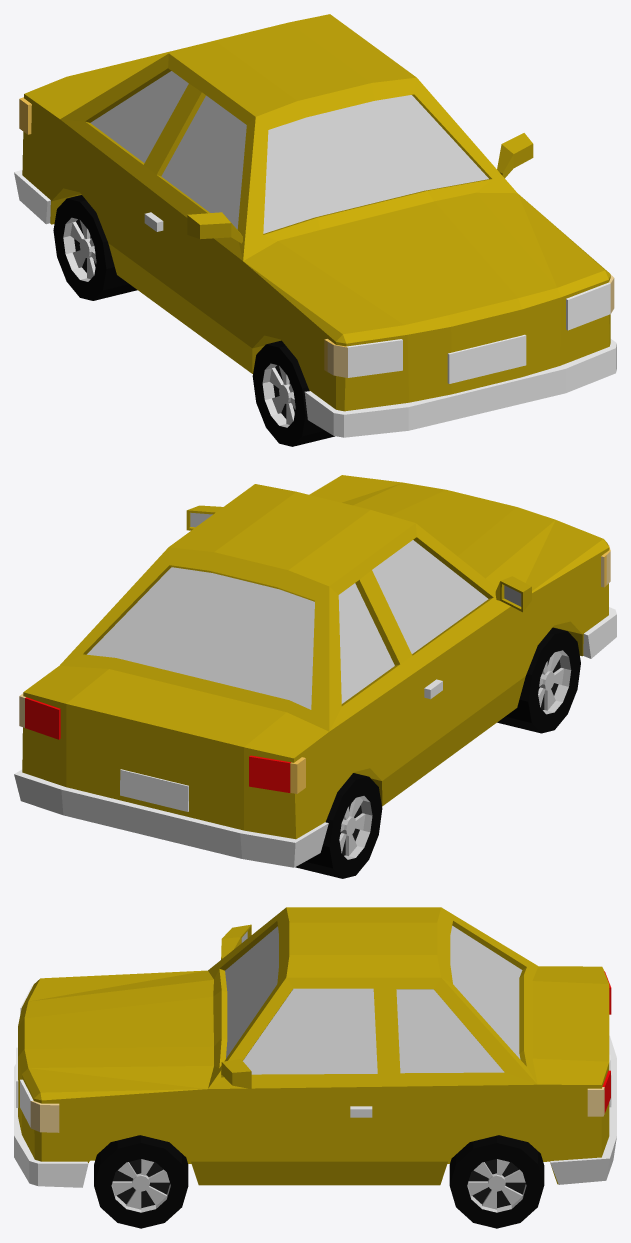
Rendered from Car-01-D.fbx.
3 views of the same model, one above another, from view 1: azimuth 30°, elevation 25°; view 2: azimuth 150°, elevation 25°; view 3: azimuth 270°, elevation 25° (orthographic). The views are drawn at different scales.
Parts seen in each view (by area): view 1: Car-01, BR, FR, High-Beam, Light-Right; view 2: Car-01, BR, FR, Break-Light; view 3: Car-01, BL, FL, Light-Left.
Part boxes in pixels (x1,y1,x2,y2): Car-01: (14,14,616,437); BR: (53,195,137,300); FR: (252,340,334,446); High-Beam: (346,282,610,377); Light-Right: (326,339,347,377); Car-01: (14,475,616,867); BR: (295,773,382,878); FR: (497,627,580,733); Break-Light: (25,697,290,792); Car-01: (14,907,616,1187); BL: (449,1135,544,1228); FL: (94,1135,188,1228); Light-Left: (30,1087,604,1132).
Size of the model in its own units: 2.45 by 1.79 by 4.26.
